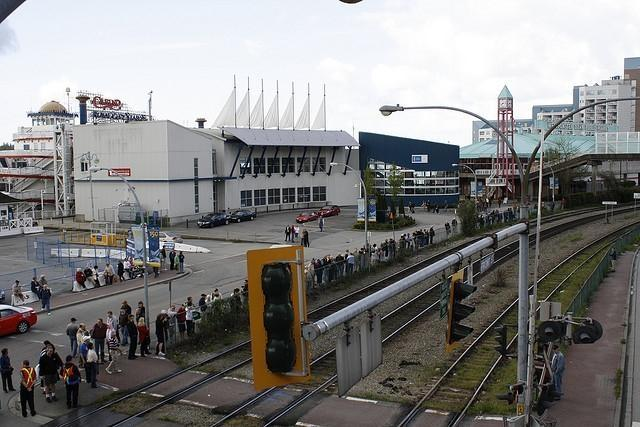car: (0, 304, 38, 338), (198, 212, 228, 228), (229, 210, 257, 222), (318, 204, 340, 218), (296, 211, 319, 223)
